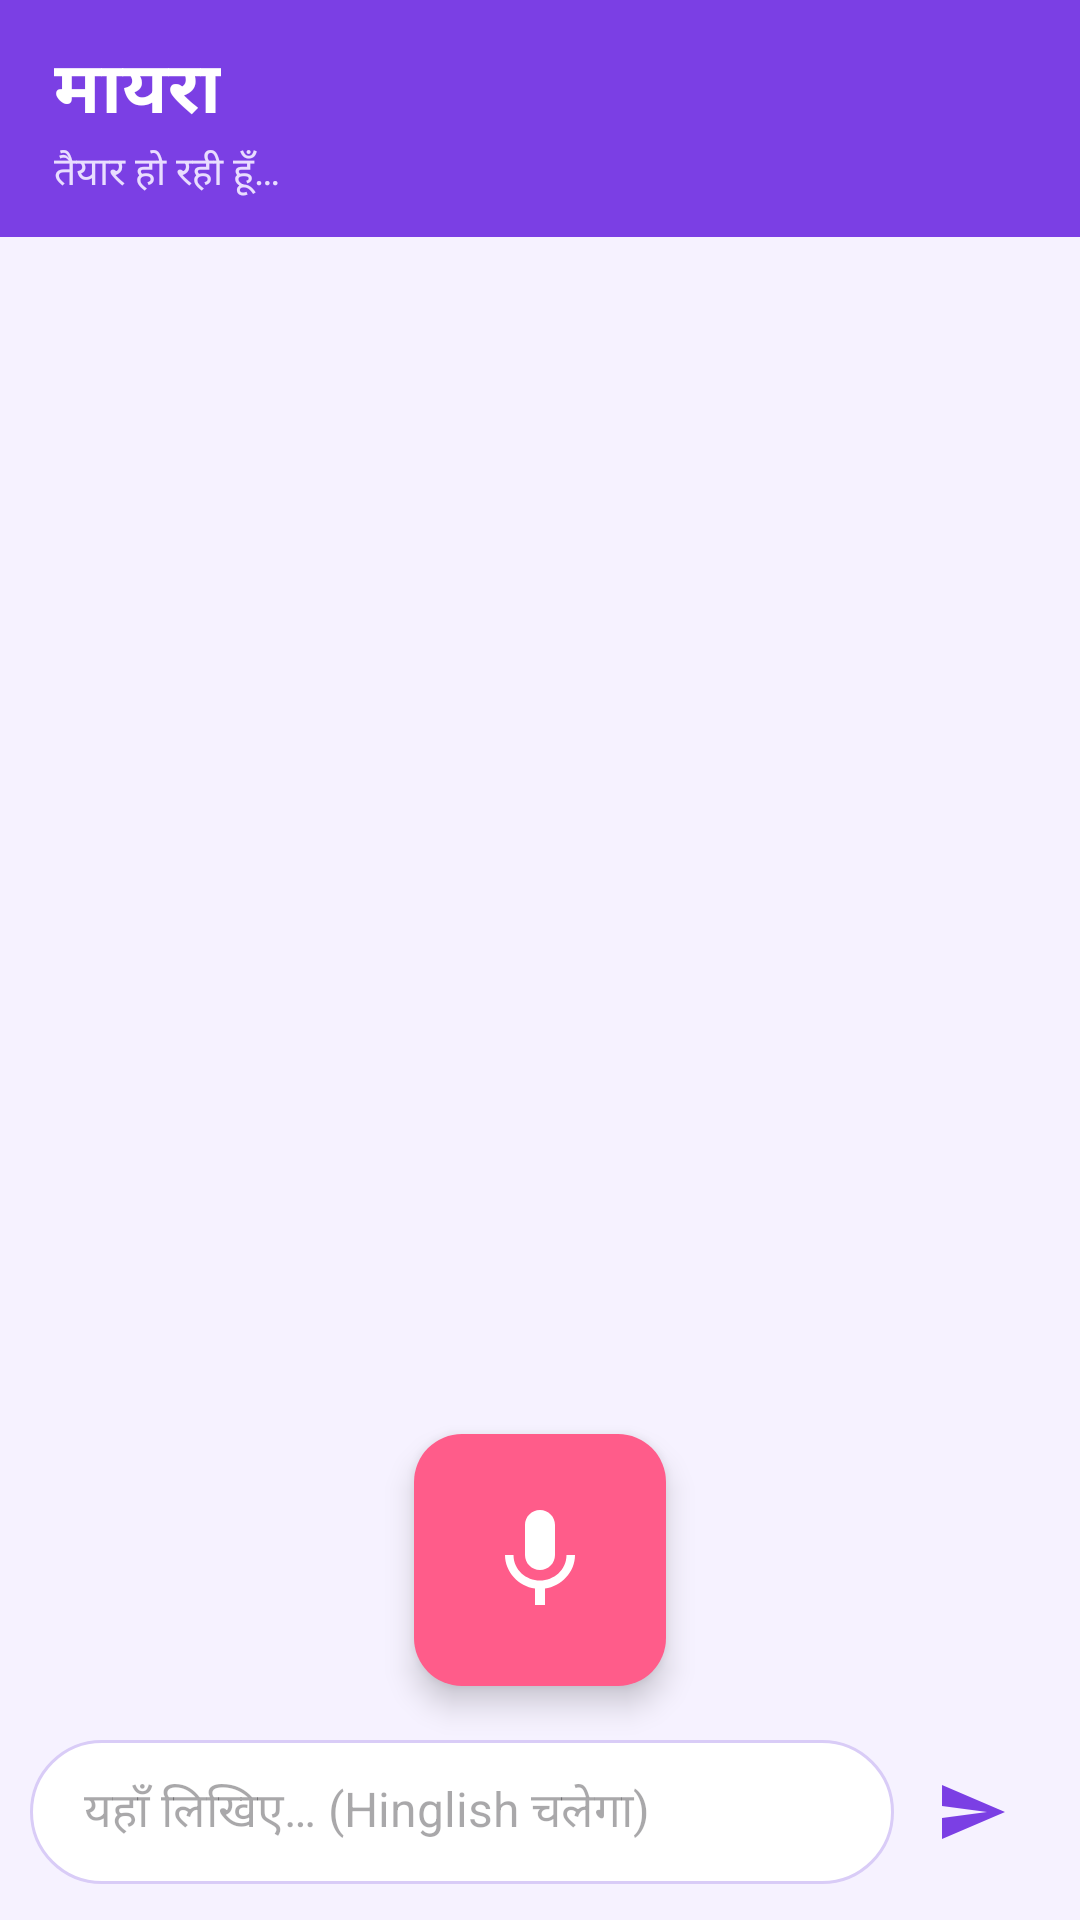

Icon bounding boxes for this 1080px x 1920px phone screenshot, format (x1, y1, x2, y2):
बोलिए: (414, 1434, 666, 1686)
भेजें: (942, 1785, 1005, 1839)
